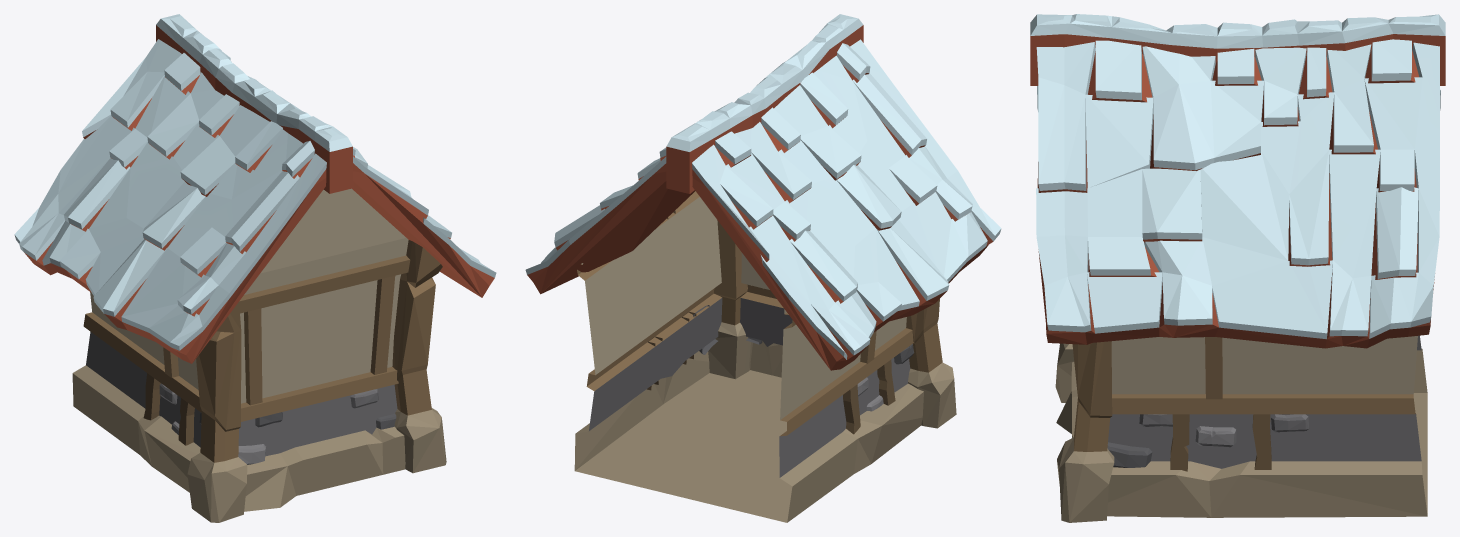
Rendered from SM_Bld_House_Extension_02_Snow.gltf.
3 renders of one model, left to right at view 1: azimuth 30°, elevation 25°; view 2: azimuth 150°, elevation 25°; view 3: azimuth 270°, elevation 25°, orthographic. The views are drawn at different scales.
Visible parts, largest first — view 1: SM_Bld_House_Extension_02_Snow; view 2: SM_Bld_House_Extension_02_Snow; view 3: SM_Bld_House_Extension_02_Snow.
Boxes of the visible parts, x1,y1,x2,y2 form: SM_Bld_House_Extension_02_Snow: [14, 14, 496, 522]; SM_Bld_House_Extension_02_Snow: [525, 14, 1001, 522]; SM_Bld_House_Extension_02_Snow: [1030, 14, 1445, 522].
Bounding box in the file's own units: 4.42 × 4.6 × 3.98.
1 material, 1 textured.
